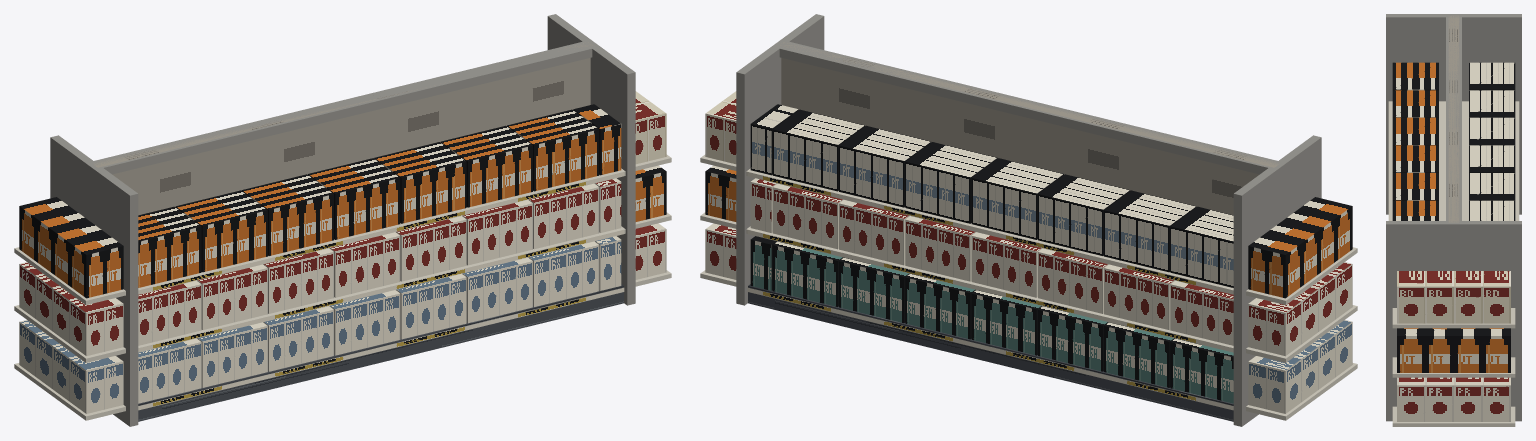
Rendered from COM_Gondola_Health.glb.
The picture shows the model from 3 angles, left to right: view 1: azimuth 30°, elevation 25°; view 2: azimuth 150°, elevation 25°; view 3: azimuth 270°, elevation 25°; orthographic projection. The views are drawn at different scales.
Visible parts, largest first — view 1: COM_Gondola_Health_Mesh; view 2: COM_Gondola_Health_Mesh; view 3: COM_Gondola_Health_Mesh.
Part boxes in pixels (x1,y1,x2,y2): COM_Gondola_Health_Mesh: (14, 14, 671, 426); COM_Gondola_Health_Mesh: (700, 14, 1357, 426); COM_Gondola_Health_Mesh: (1386, 14, 1521, 426).
Size of what is drawn, in the model's own units: 4.24 by 1.6 by 1.
Materials: 1 (1 with a texture image).
